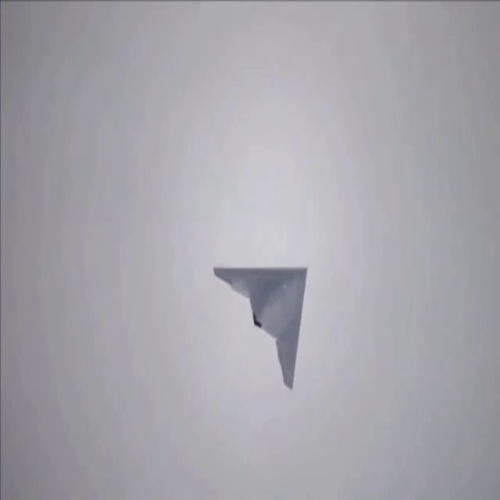uav864: (213, 266, 310, 390)
